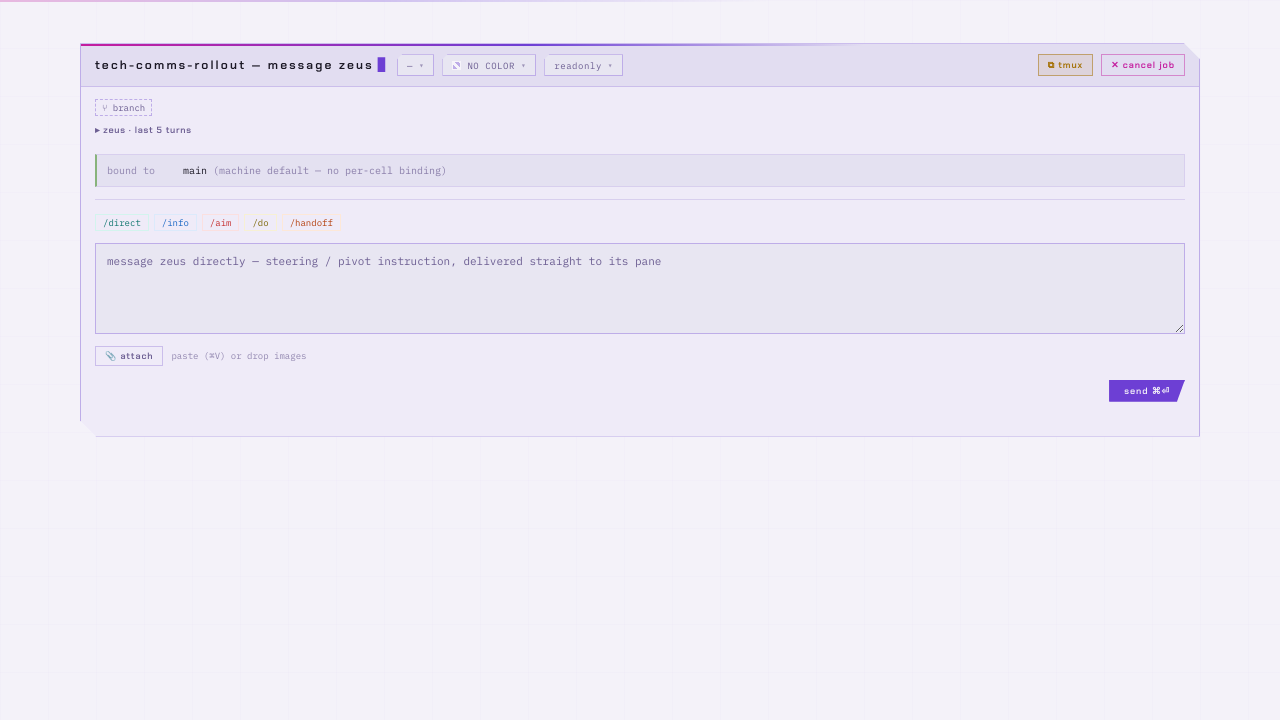
Scenario: VisibilityControl dropdown › is a colorsel dropdown, not a radiogroup, offering the three levels
Click the button with id "steer-visibility" at (584, 65), box [544,54,623,76]
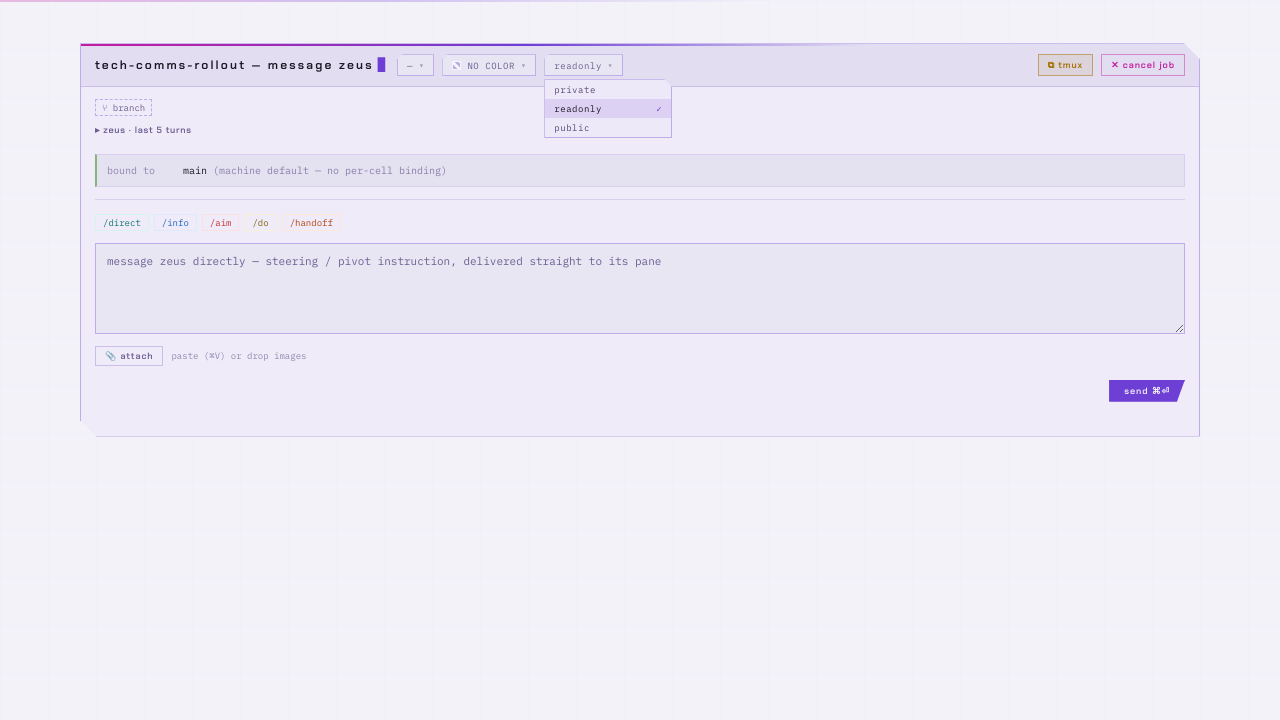
Now the option with class "colorsel-row" showing "private" is shown, box [554,84,596,95]
Now the option with class "colorsel-row" showing "readonly ✓" is shown, box [545,99,671,118]
Now the option with class "colorsel-row" showing "public" is shown, box [554,122,590,133]
